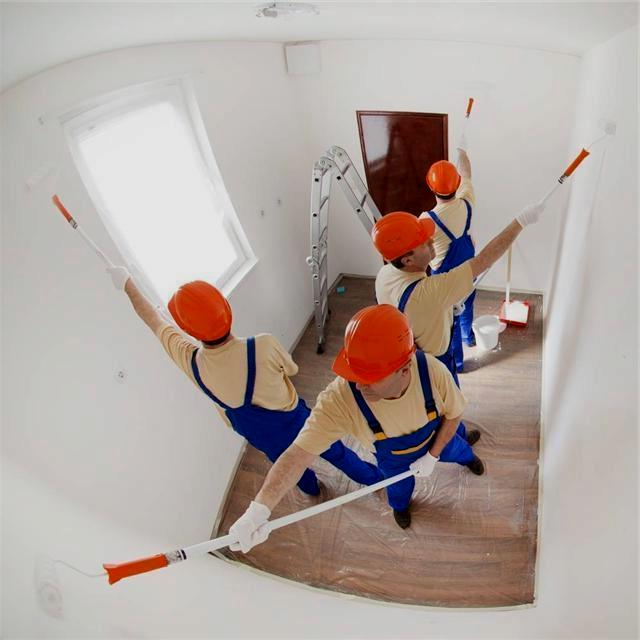hand_glove: (224, 498, 275, 557), (403, 446, 444, 482), (513, 197, 548, 234), (102, 260, 135, 292)
head_helmet: (330, 298, 420, 384), (166, 277, 238, 346), (370, 205, 437, 266), (425, 156, 465, 200)
person: (322, 304, 478, 543), (157, 274, 315, 492), (361, 212, 474, 383), (419, 156, 480, 372)
shoes: (386, 492, 419, 534), (457, 445, 487, 479)
